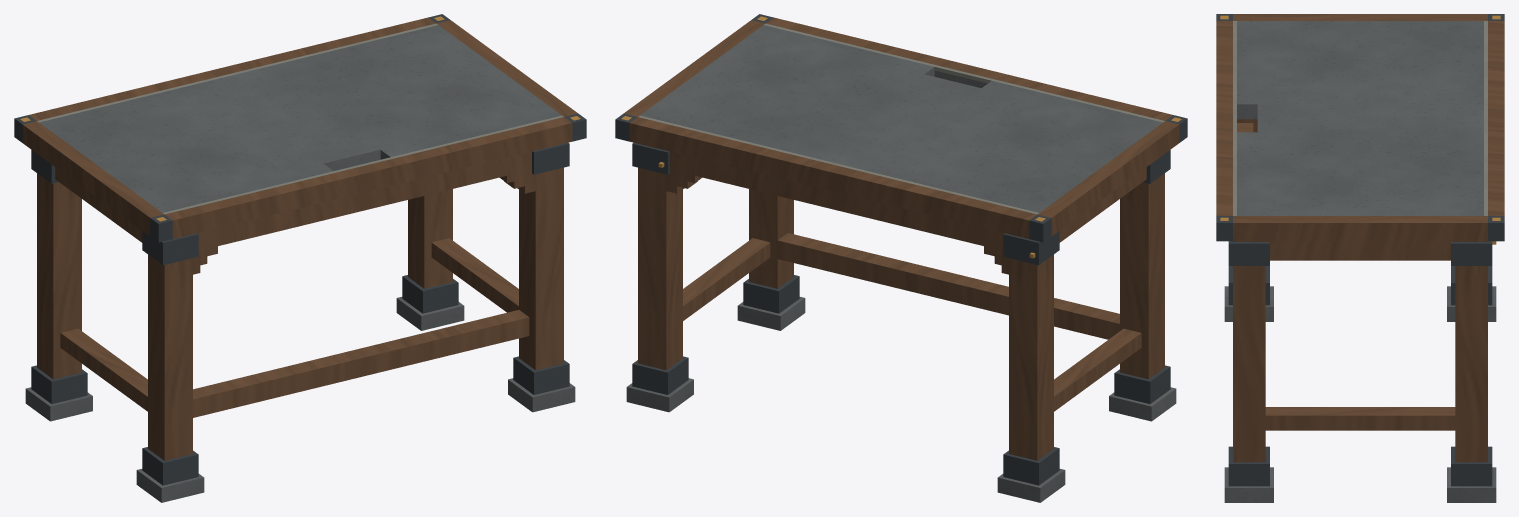
3 renders of one model, left to right at view 1: azimuth 30°, elevation 25°; view 2: azimuth 150°, elevation 25°; view 3: azimuth 270°, elevation 25°, orthographic.
Parts seen in each view (by area): view 1: 办公桌桌架; view 2: 办公桌桌架; view 3: 办公桌桌架.
Part boxes in pixels (x1,y1,x2,y2): 办公桌桌架: (14, 14, 586, 502); 办公桌桌架: (615, 14, 1187, 502); 办公桌桌架: (1216, 14, 1504, 502).
Bounding box in the file's own units: 1.2 × 0.76 × 0.7.
6 materials, 6 textured.
